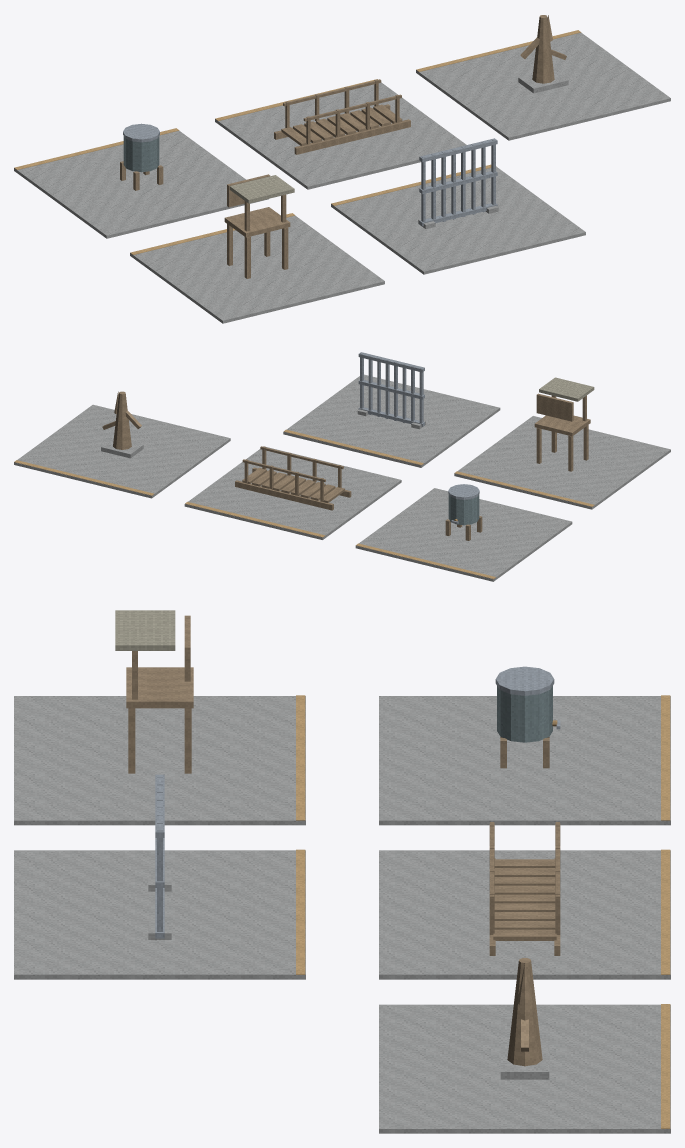
The model's file is level_blockout_kit_wld_11_p04.glb.
The picture shows the model from 3 angles, top to bottom: view 1: azimuth 30°, elevation 25°; view 2: azimuth 150°, elevation 25°; view 3: azimuth 270°, elevation 25°; orthographic projection. The views are drawn at different scales.
Parts seen in each view (by area): view 1: level_blockout_kit_wld_11_p04; view 2: level_blockout_kit_wld_11_p04; view 3: level_blockout_kit_wld_11_p04.
Boxes of the visible parts, x1,y1,x2,y2 form: level_blockout_kit_wld_11_p04: (14, 15, 670, 323); level_blockout_kit_wld_11_p04: (14, 352, 670, 581); level_blockout_kit_wld_11_p04: (14, 610, 670, 1133).
Size of the model in its own units: 19.65 by 2.86 by 12.6.
7 materials, 7 textured.
